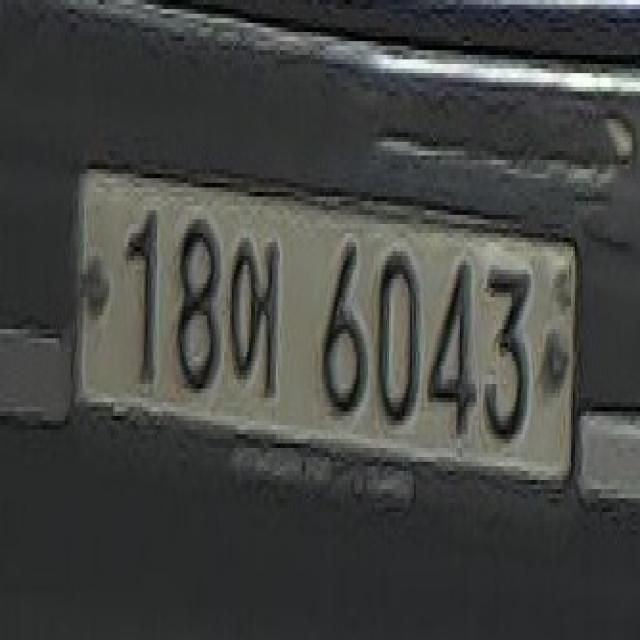0: (376, 242, 424, 443)
1: (121, 196, 163, 407)
3: (479, 251, 533, 462)
4: (427, 256, 477, 453)
6: (316, 228, 370, 430)
8: (175, 206, 222, 402)
eo: (228, 219, 284, 407)
license_plate: (69, 151, 582, 535)
